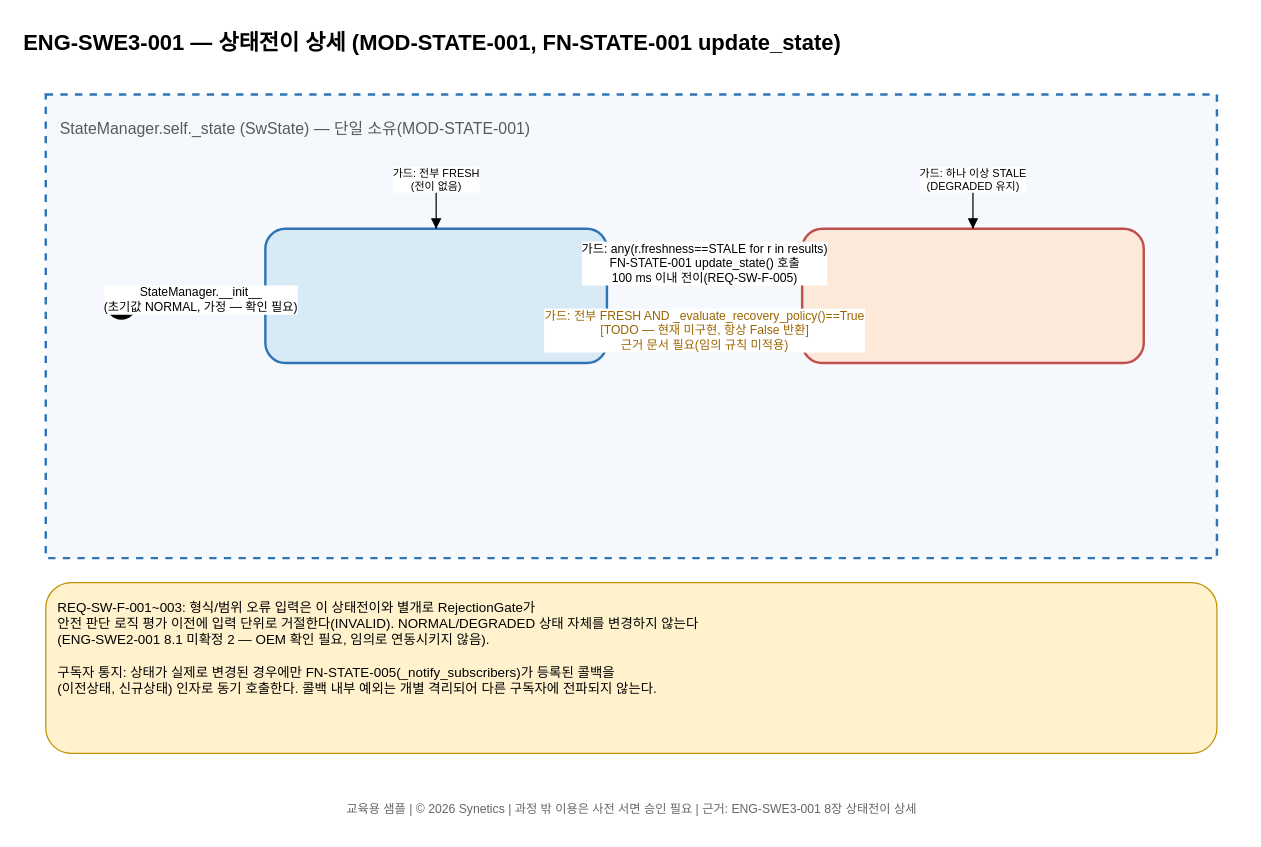
This 1261x847 diagram has some shape labels left out. Each missing label, with the centre of its shape:
"DEGRADED (하나 이상 필수 안전 관련 입력 STALE)" goes at (x=972, y=295).
"NORMAL (모든 필수 안전 관련 입력 FRESH)" goes at (x=436, y=295).
